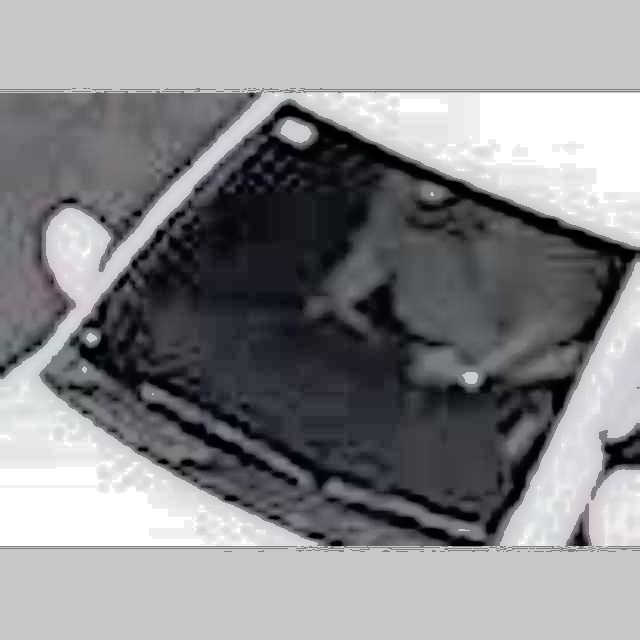tidak-pakai: (348, 168, 565, 416)
